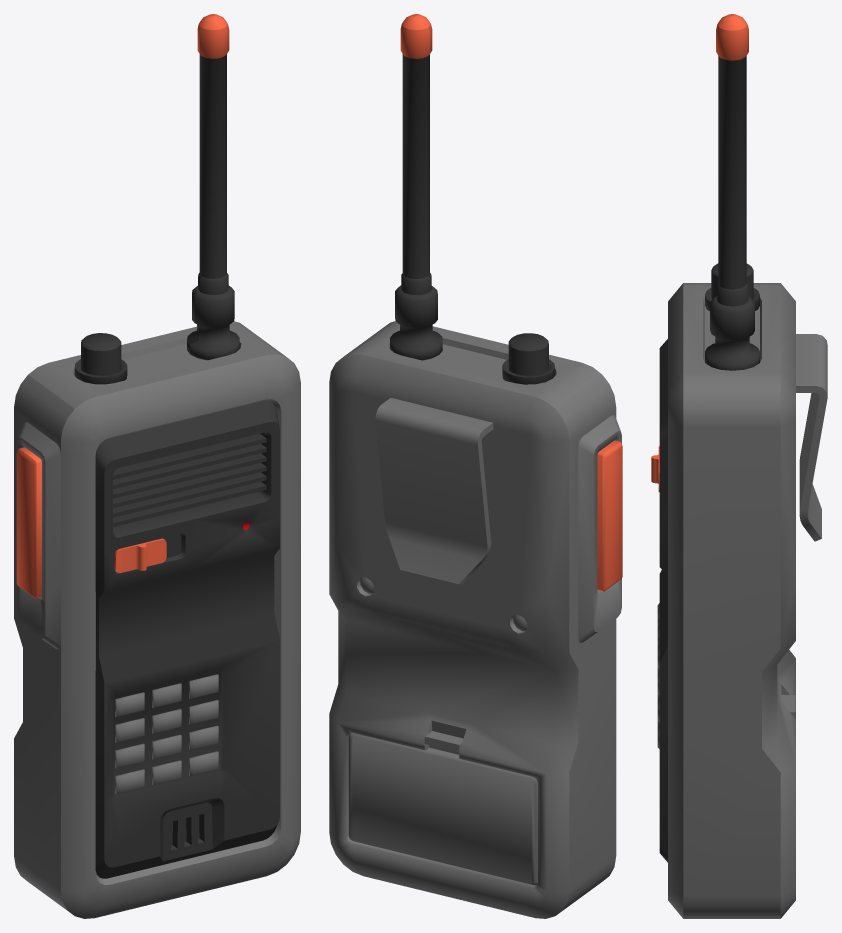
File: FBX_WalkieTalkie.fbx
3 views of the same model, side by side, from view 1: azimuth 30°, elevation 25°; view 2: azimuth 150°, elevation 25°; view 3: azimuth 270°, elevation 25° (orthographic). The views are drawn at different scales.
Visible parts, largest first — view 1: Main_Low.001, Main_Low.002; view 2: Main_Low.001; view 3: Main_Low.001.
Boxes of the visible parts, x1,y1,x2,y2 form: Main_Low.001: (14,14,300,918); Main_Low.002: (114,538,166,572); Main_Low.001: (329,14,622,918); Main_Low.001: (657,14,827,918).
Size of the model in its own units: 24.9 by 78.72 by 14.22.
